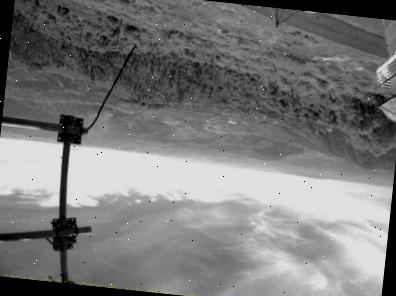smoke: (83, 107, 113, 147)
